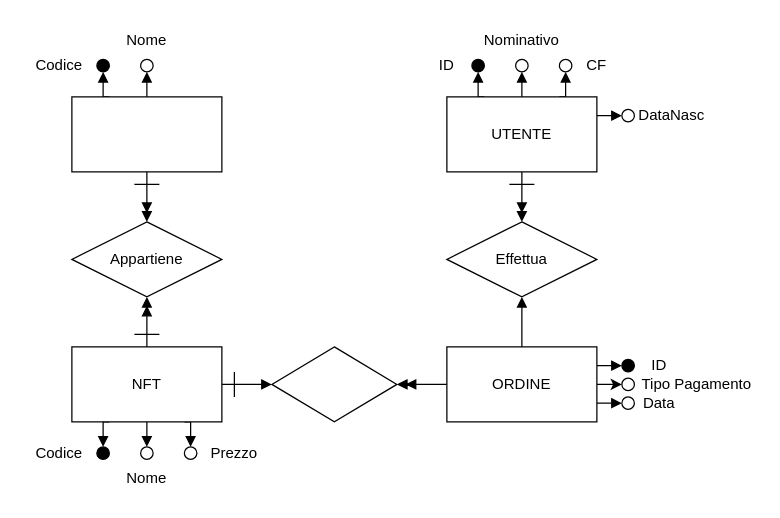
Image size: 780x518. Some labels were removed from this diagram. Each missing label, with the centre of its shape:
"CATEGORIA" goes at point 146,134.
"Composto" goes at point 334,384.
